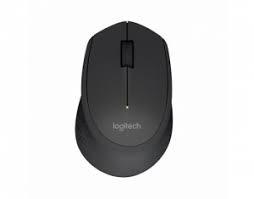mouse: (67, 15, 185, 182)
